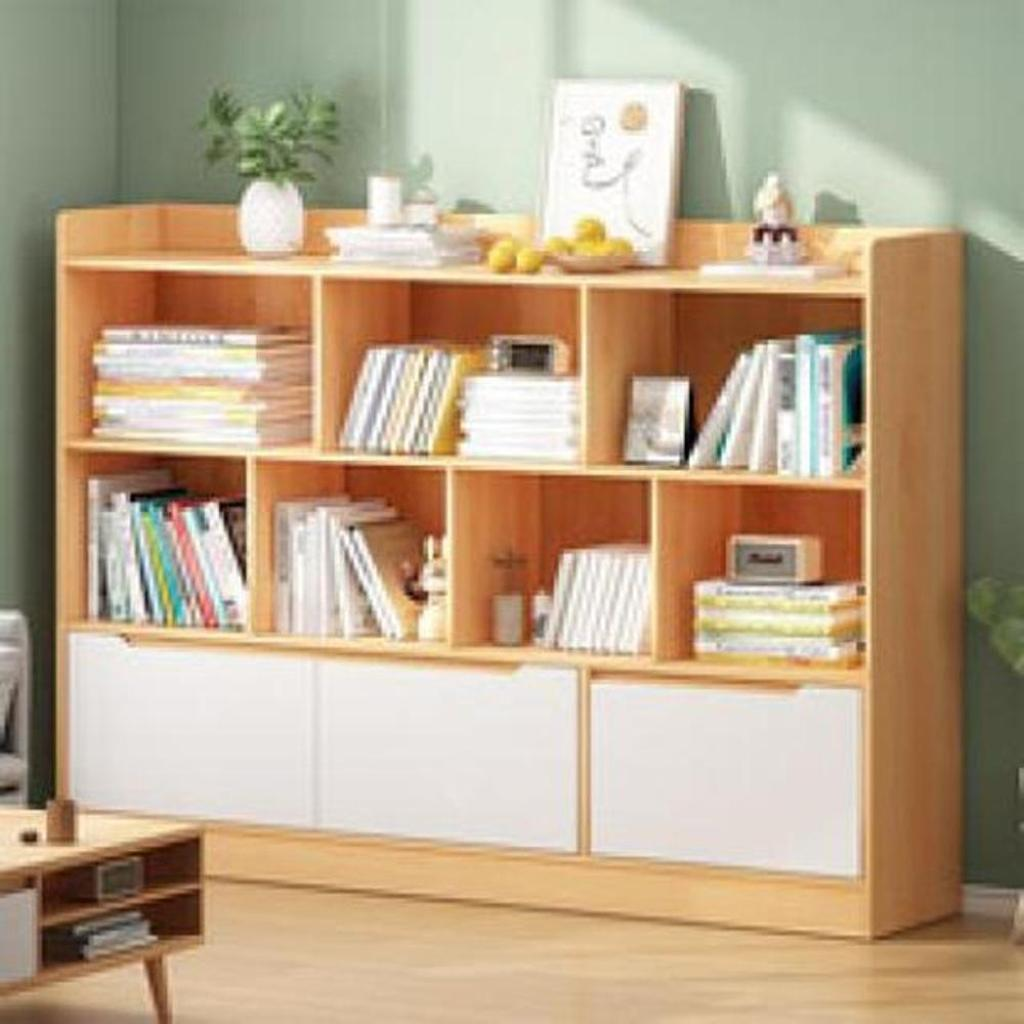lamp: (50, 193, 974, 950)
